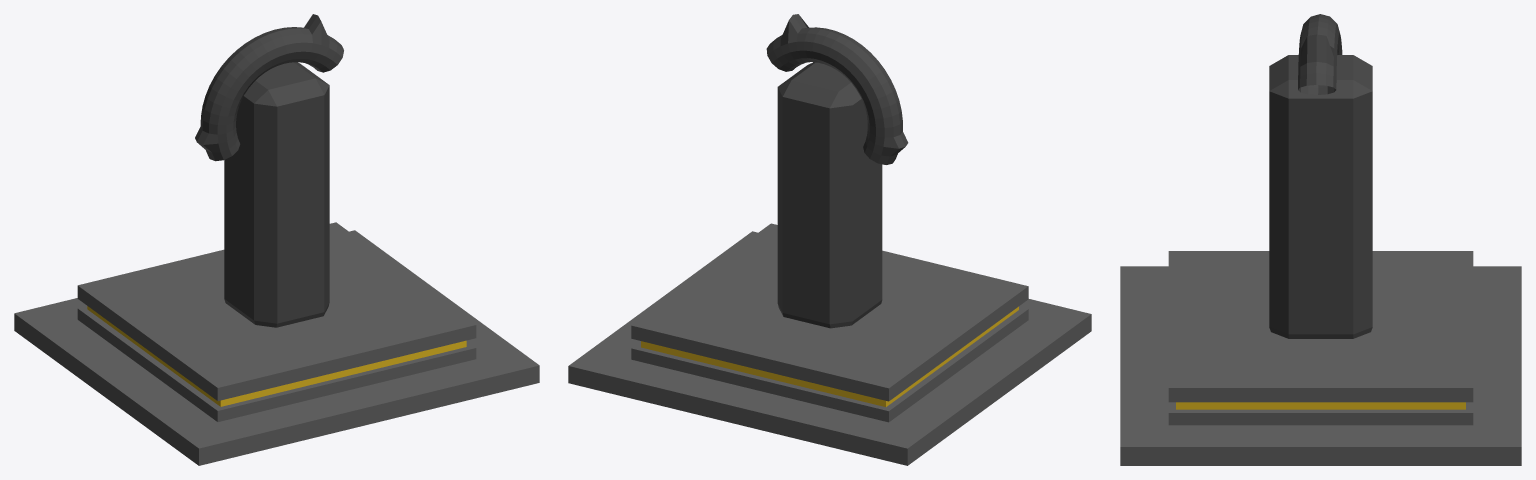
File: factoryOfBiofuel.fbx
3 renders of one model, left to right at view 1: azimuth 30°, elevation 25°; view 2: azimuth 150°, elevation 25°; view 3: azimuth 270°, elevation 25°, orthographic. The views are drawn at different scales.
Parts seen in each view (by area): view 1: Cube.003, Cube, Cube.004, Torus, Cube.001, Cube.002; view 2: Cube.003, Cube, Cube.004, Torus, Cube.001, Cube.002; view 3: Cube.003, Cube, Cube.004, Cube.001, Torus, Cube.002.
Boxes of the visible parts, x1,y1,x2,y2 form: Cube.003: (77,222,476,400); Cube: (14,230,539,465); Cube.004: (224,62,329,327); Torus: (195,14,343,161); Cube.001: (77,306,476,421); Cube.002: (87,306,466,406); Cube.003: (631,223,1028,401); Cube: (568,231,1091,465); Cube.004: (777,62,882,328); Torus: (766,14,908,164); Cube.001: (631,307,1028,422); Cube.002: (641,306,1018,406); Cube.003: (1168,251,1473,402); Cube: (1120,266,1521,465); Cube.004: (1269,55,1372,338); Cube.001: (1168,402,1473,425); Torus: (1298,14,1342,94); Cube.002: (1176,402,1465,409).
Size of the model in its own units: 1141 by 1066 by 1071.
